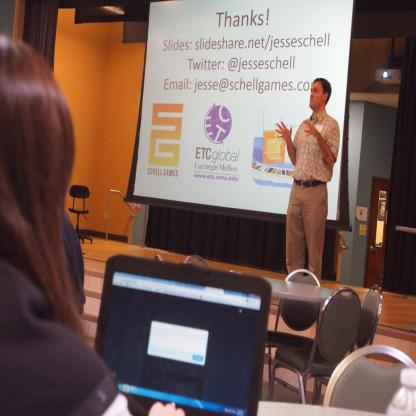board: (91, 264, 276, 416)
